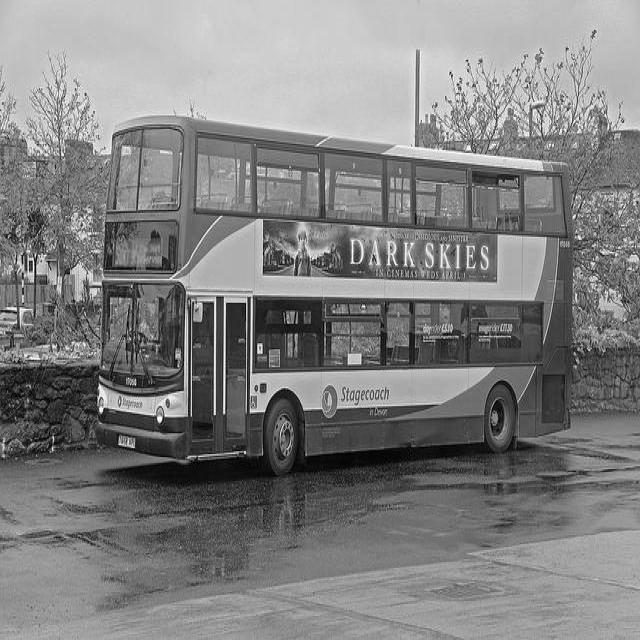vehicle: (97, 114, 578, 461), (0, 307, 34, 339)
